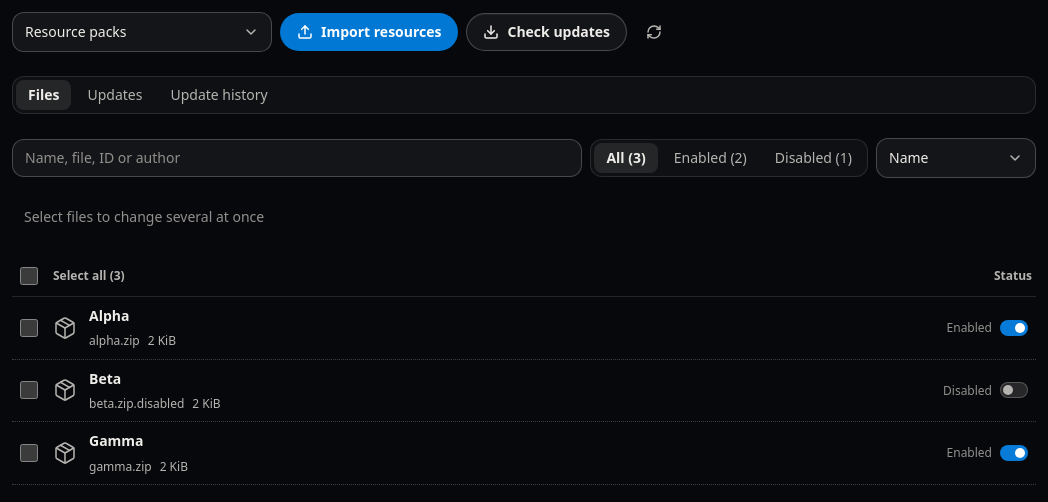
Test: instance content › loads update history from its tab instead of a duplicate toolbar button
Click the tab "Update history".
click(219, 95)  # box [158,80,280,110]
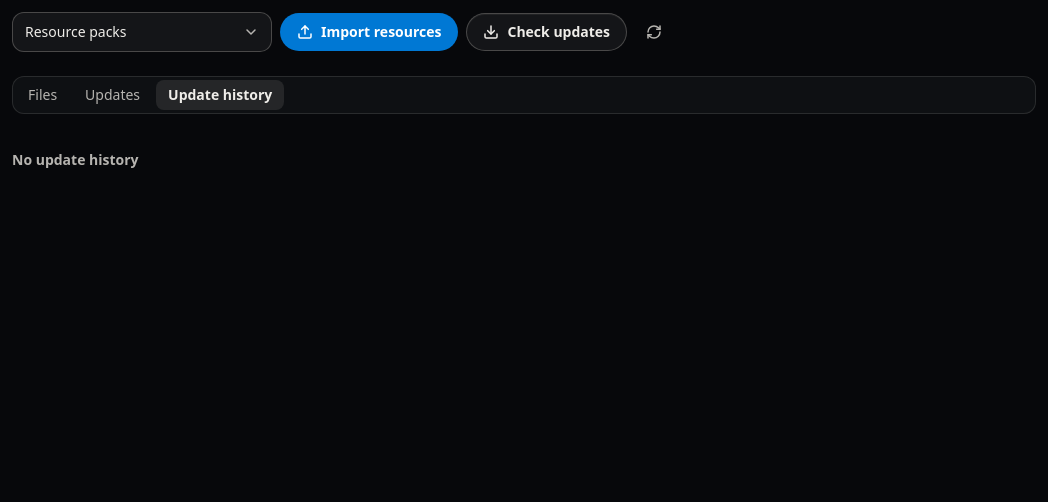
expect the heading "No update history" is shown: met, box [12,150,138,170]
